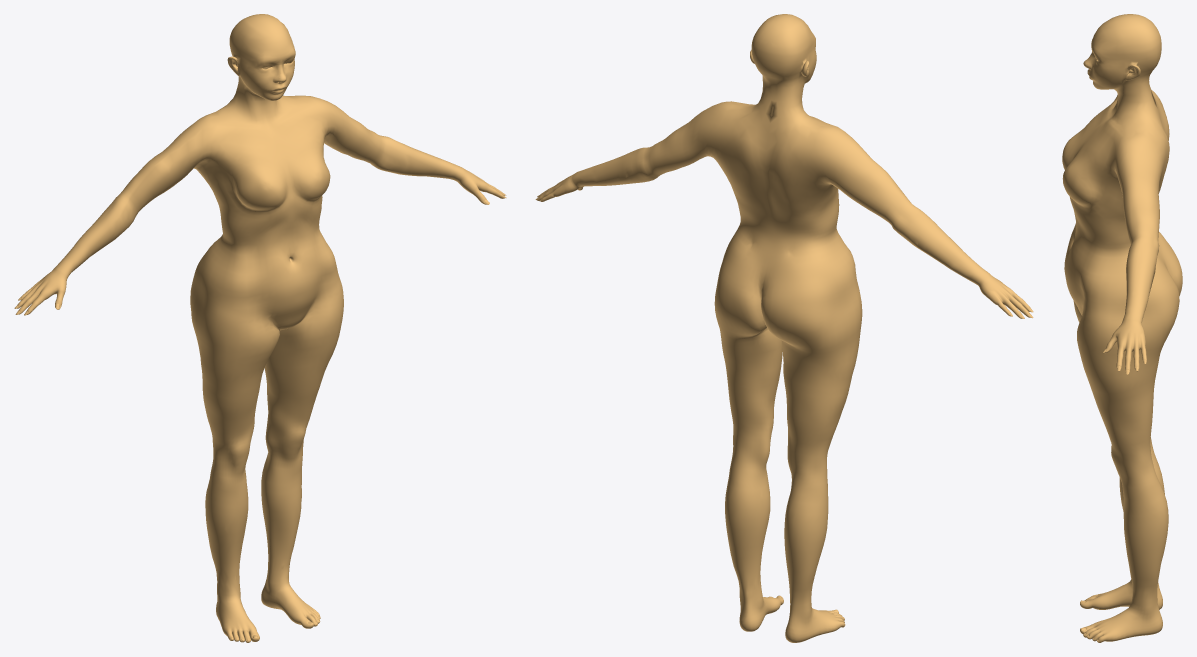
3 views of the same model, side by side, from view 1: azimuth 30°, elevation 25°; view 2: azimuth 150°, elevation 25°; view 3: azimuth 270°, elevation 25° (orthographic).
Parts seen in each view (by area): view 1: Body; view 2: Body; view 3: Body.
Part boxes in pixels (x1,y1,x2,y2): Body: [17, 14, 505, 642]; Body: [537, 14, 1030, 642]; Body: [1062, 14, 1182, 642].
Size of the model in its own units: 1.58 by 1.85 by 0.3332.
